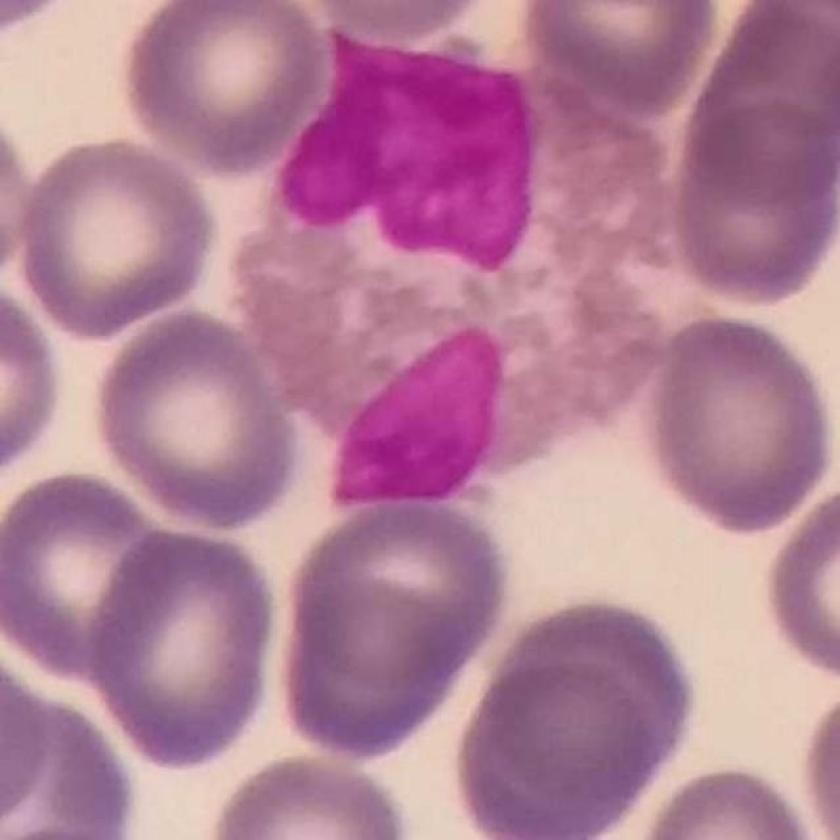eosinophil: (230, 19, 683, 521)
